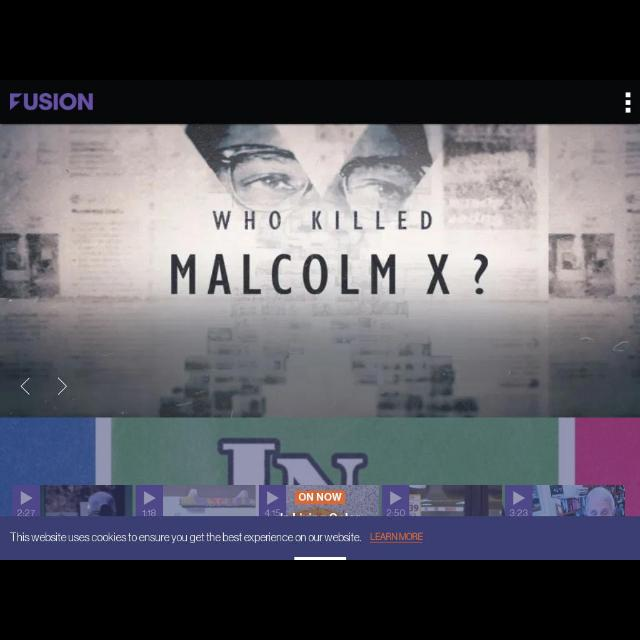backgroundimage: (1, 124, 639, 516)
icon: (620, 88, 634, 115), (18, 374, 34, 396), (54, 374, 68, 396), (387, 490, 403, 504), (265, 490, 279, 506), (142, 490, 156, 506), (512, 490, 526, 504), (20, 490, 32, 506)
image: (288, 484, 378, 516), (40, 486, 132, 516), (533, 485, 625, 515), (163, 485, 254, 515), (411, 485, 502, 515), (6, 91, 96, 113)
link: (369, 530, 425, 544)
text: (9, 530, 362, 544), (384, 508, 406, 516), (509, 508, 528, 516), (18, 508, 36, 516), (141, 508, 157, 516), (264, 509, 282, 516)
